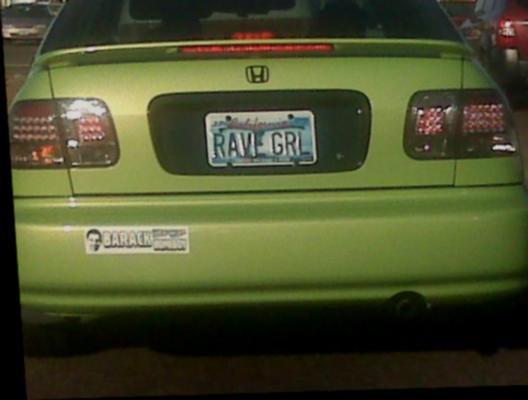License_Plate: (199, 103, 324, 171)
